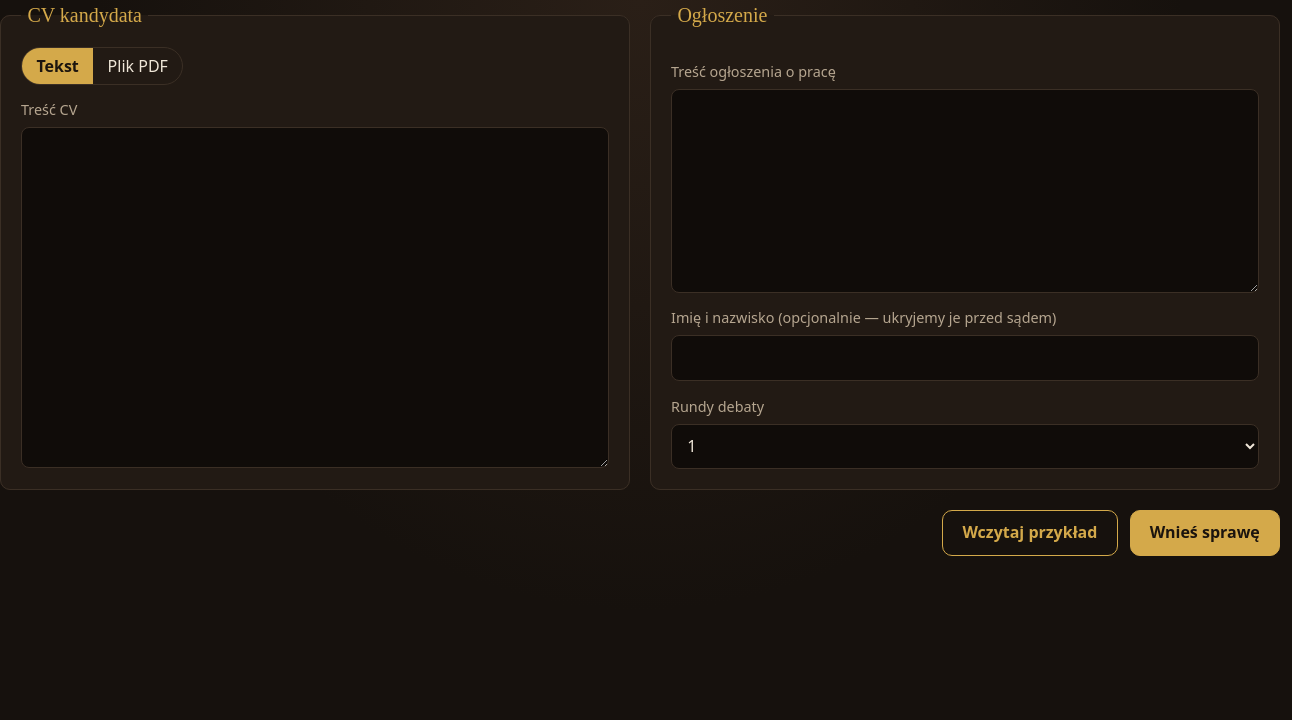
Test: FilingForm › wnosi CV jako tekst z ogloszeniem, imieniem i rundami debaty
Type "Java, Spring" into the text box labelled "Treść CV" at (315,298), box x1=21 y1=127 x2=609 y2=468
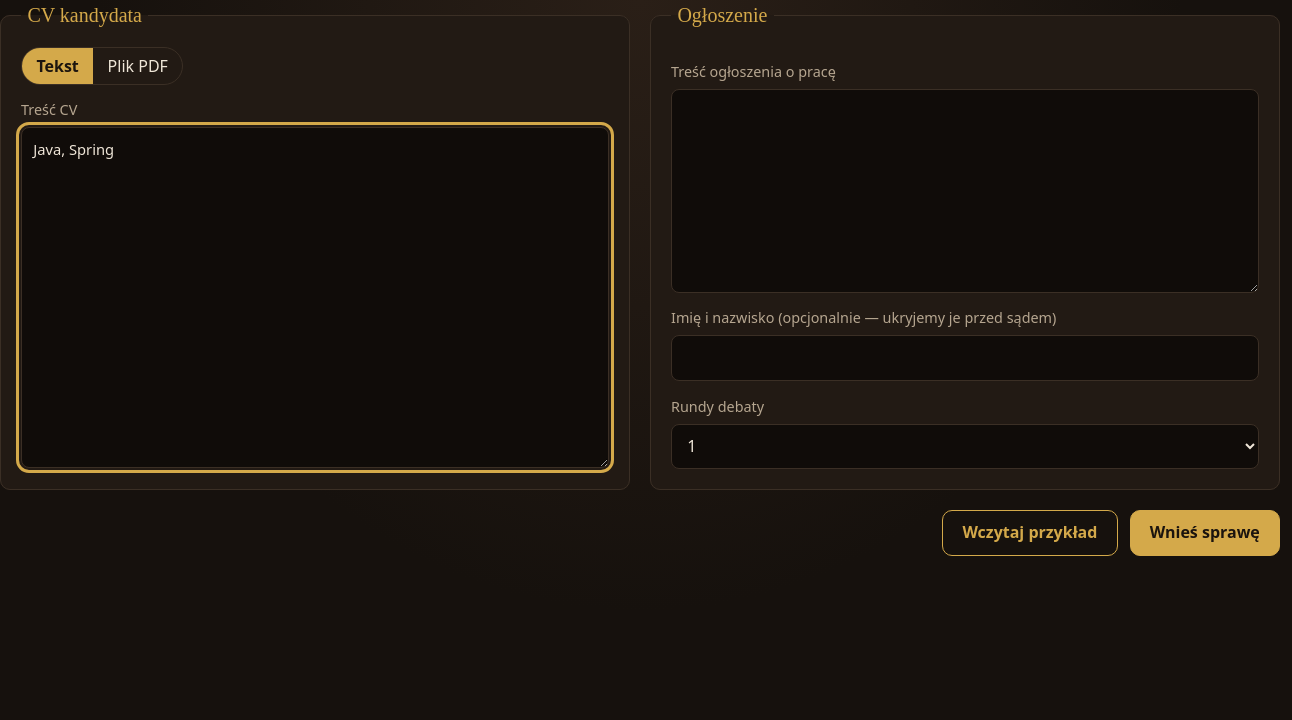
Type "Junior Java" into the text box labelled "Treść ogłoszenia o pracę" at (965,191), box x1=671 y1=89 x2=1259 y2=293
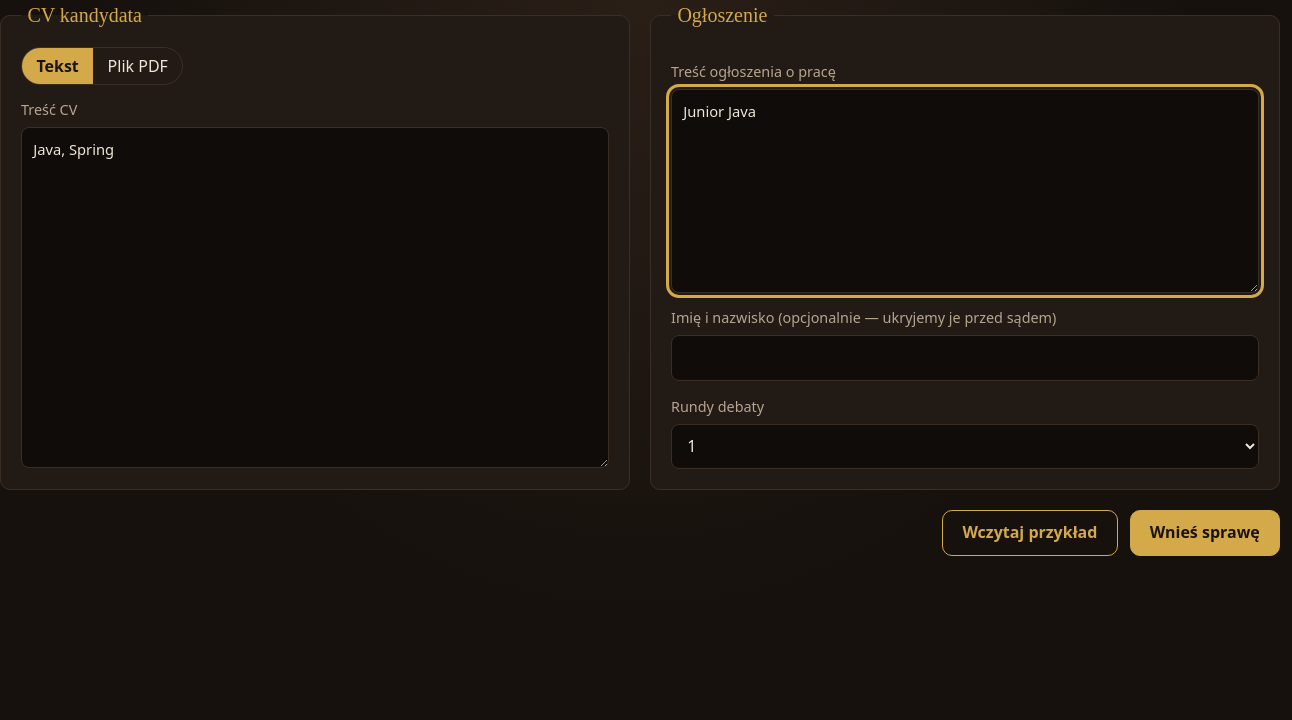
Type "Anna Nowak" into the field labelled "Imię i nazwisko (opcjonalnie — ukryjemy je przed sądem)" at (965,358), box x1=671 y1=335 x2=1259 y2=381
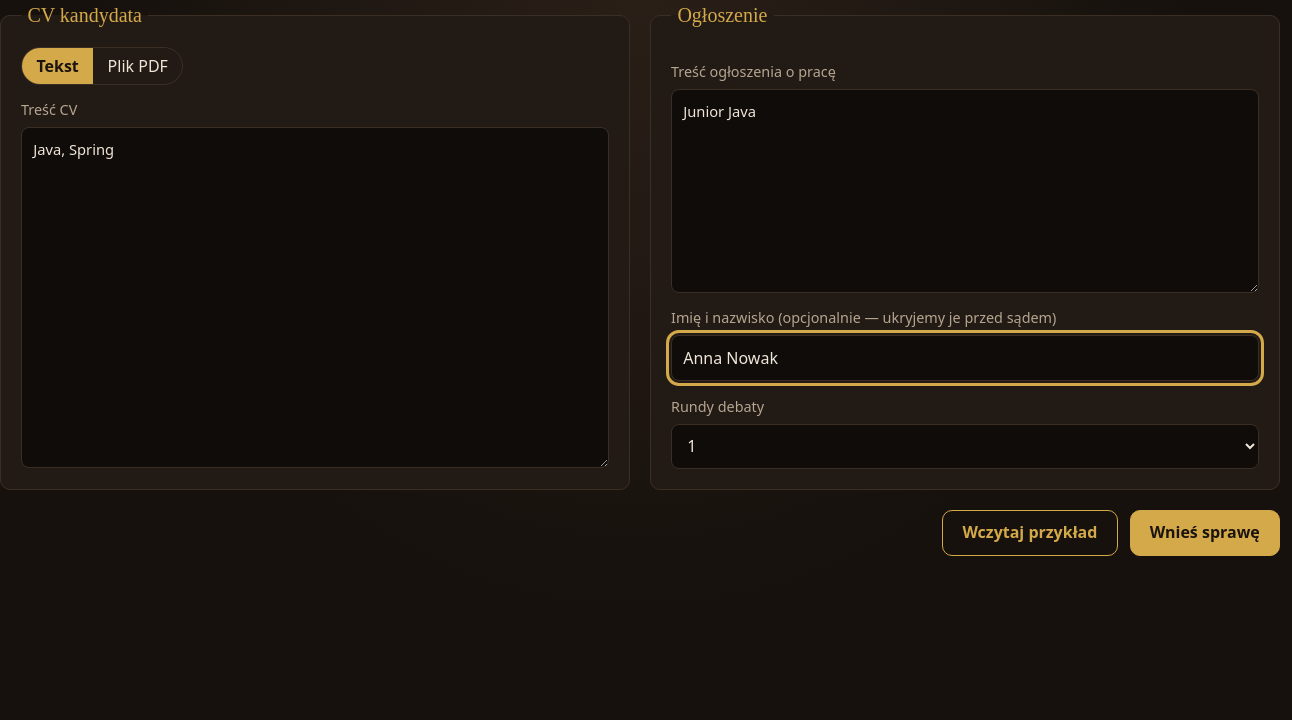
Select "bez debaty" in the dropdown labelled "Rundy debaty" at (965,446), box x1=671 y1=424 x2=1259 y2=469
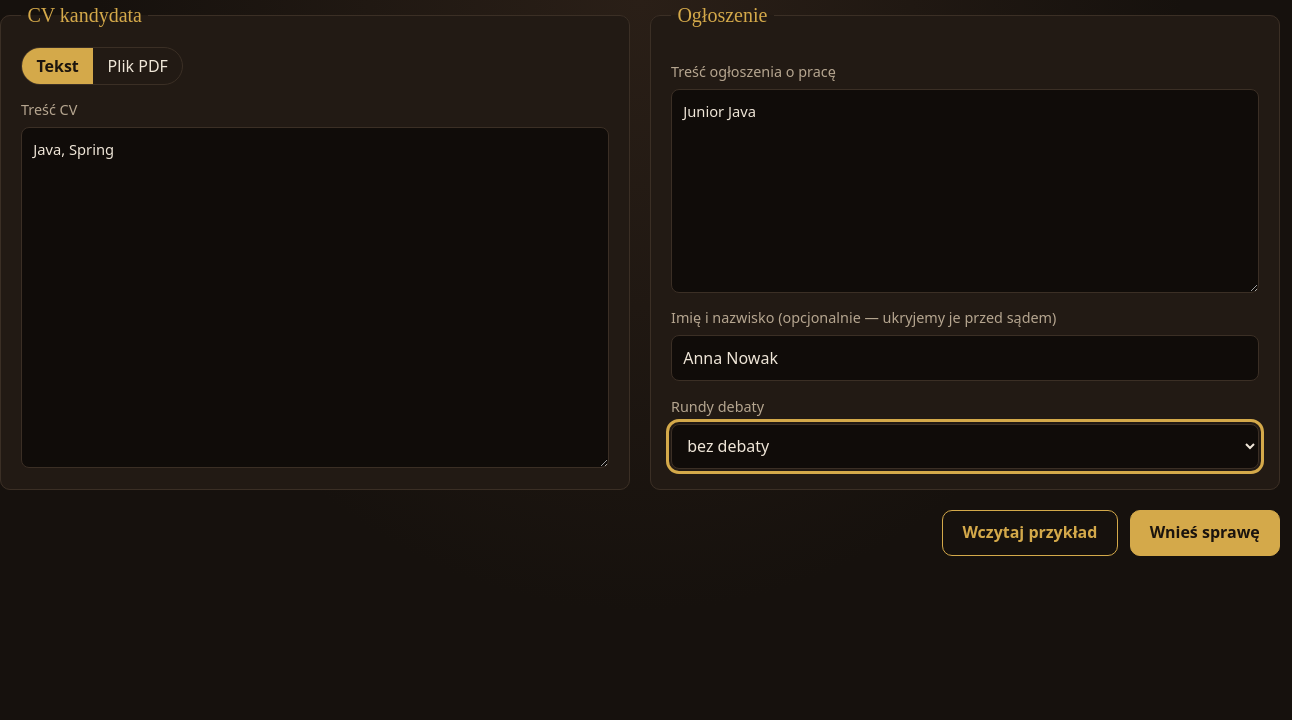
Click the button "Wnieś sprawę" at (1205,533), box x1=1130 y1=510 x2=1280 y2=556
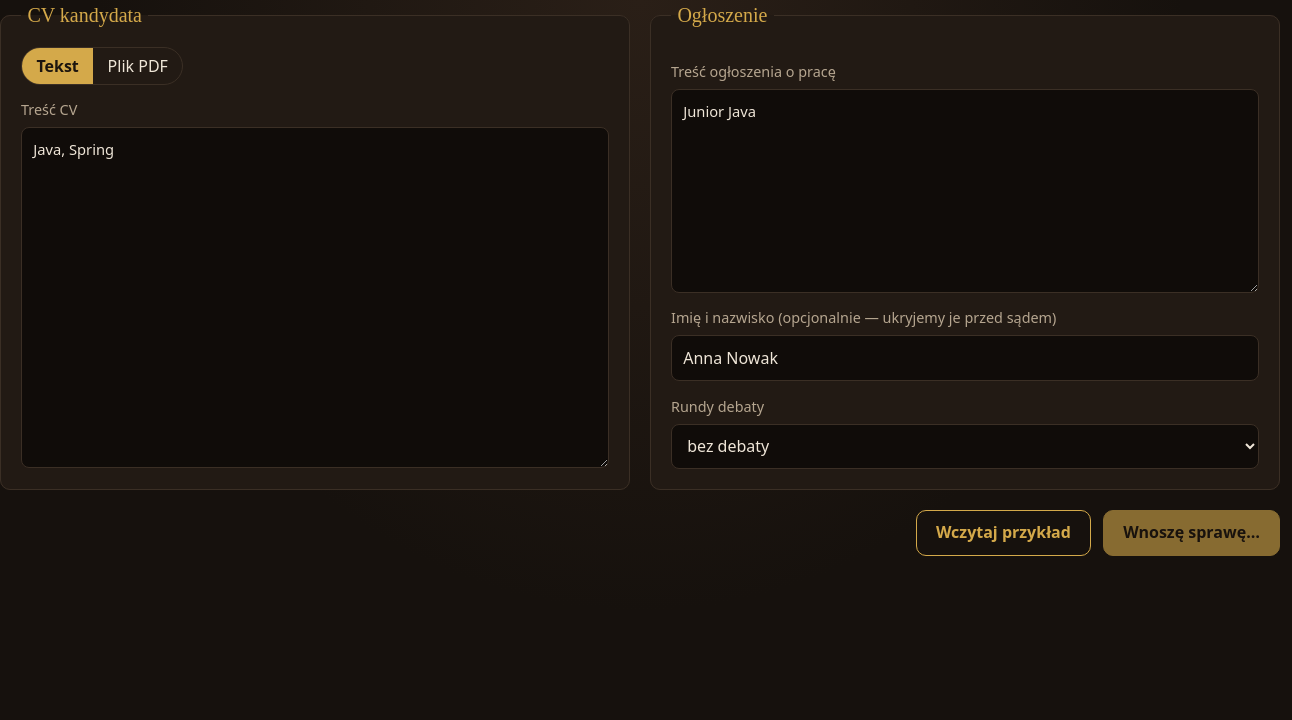
Result: the button "Wnoszę sprawę…" is disabled at x1=1103 y1=510 x2=1280 y2=556
